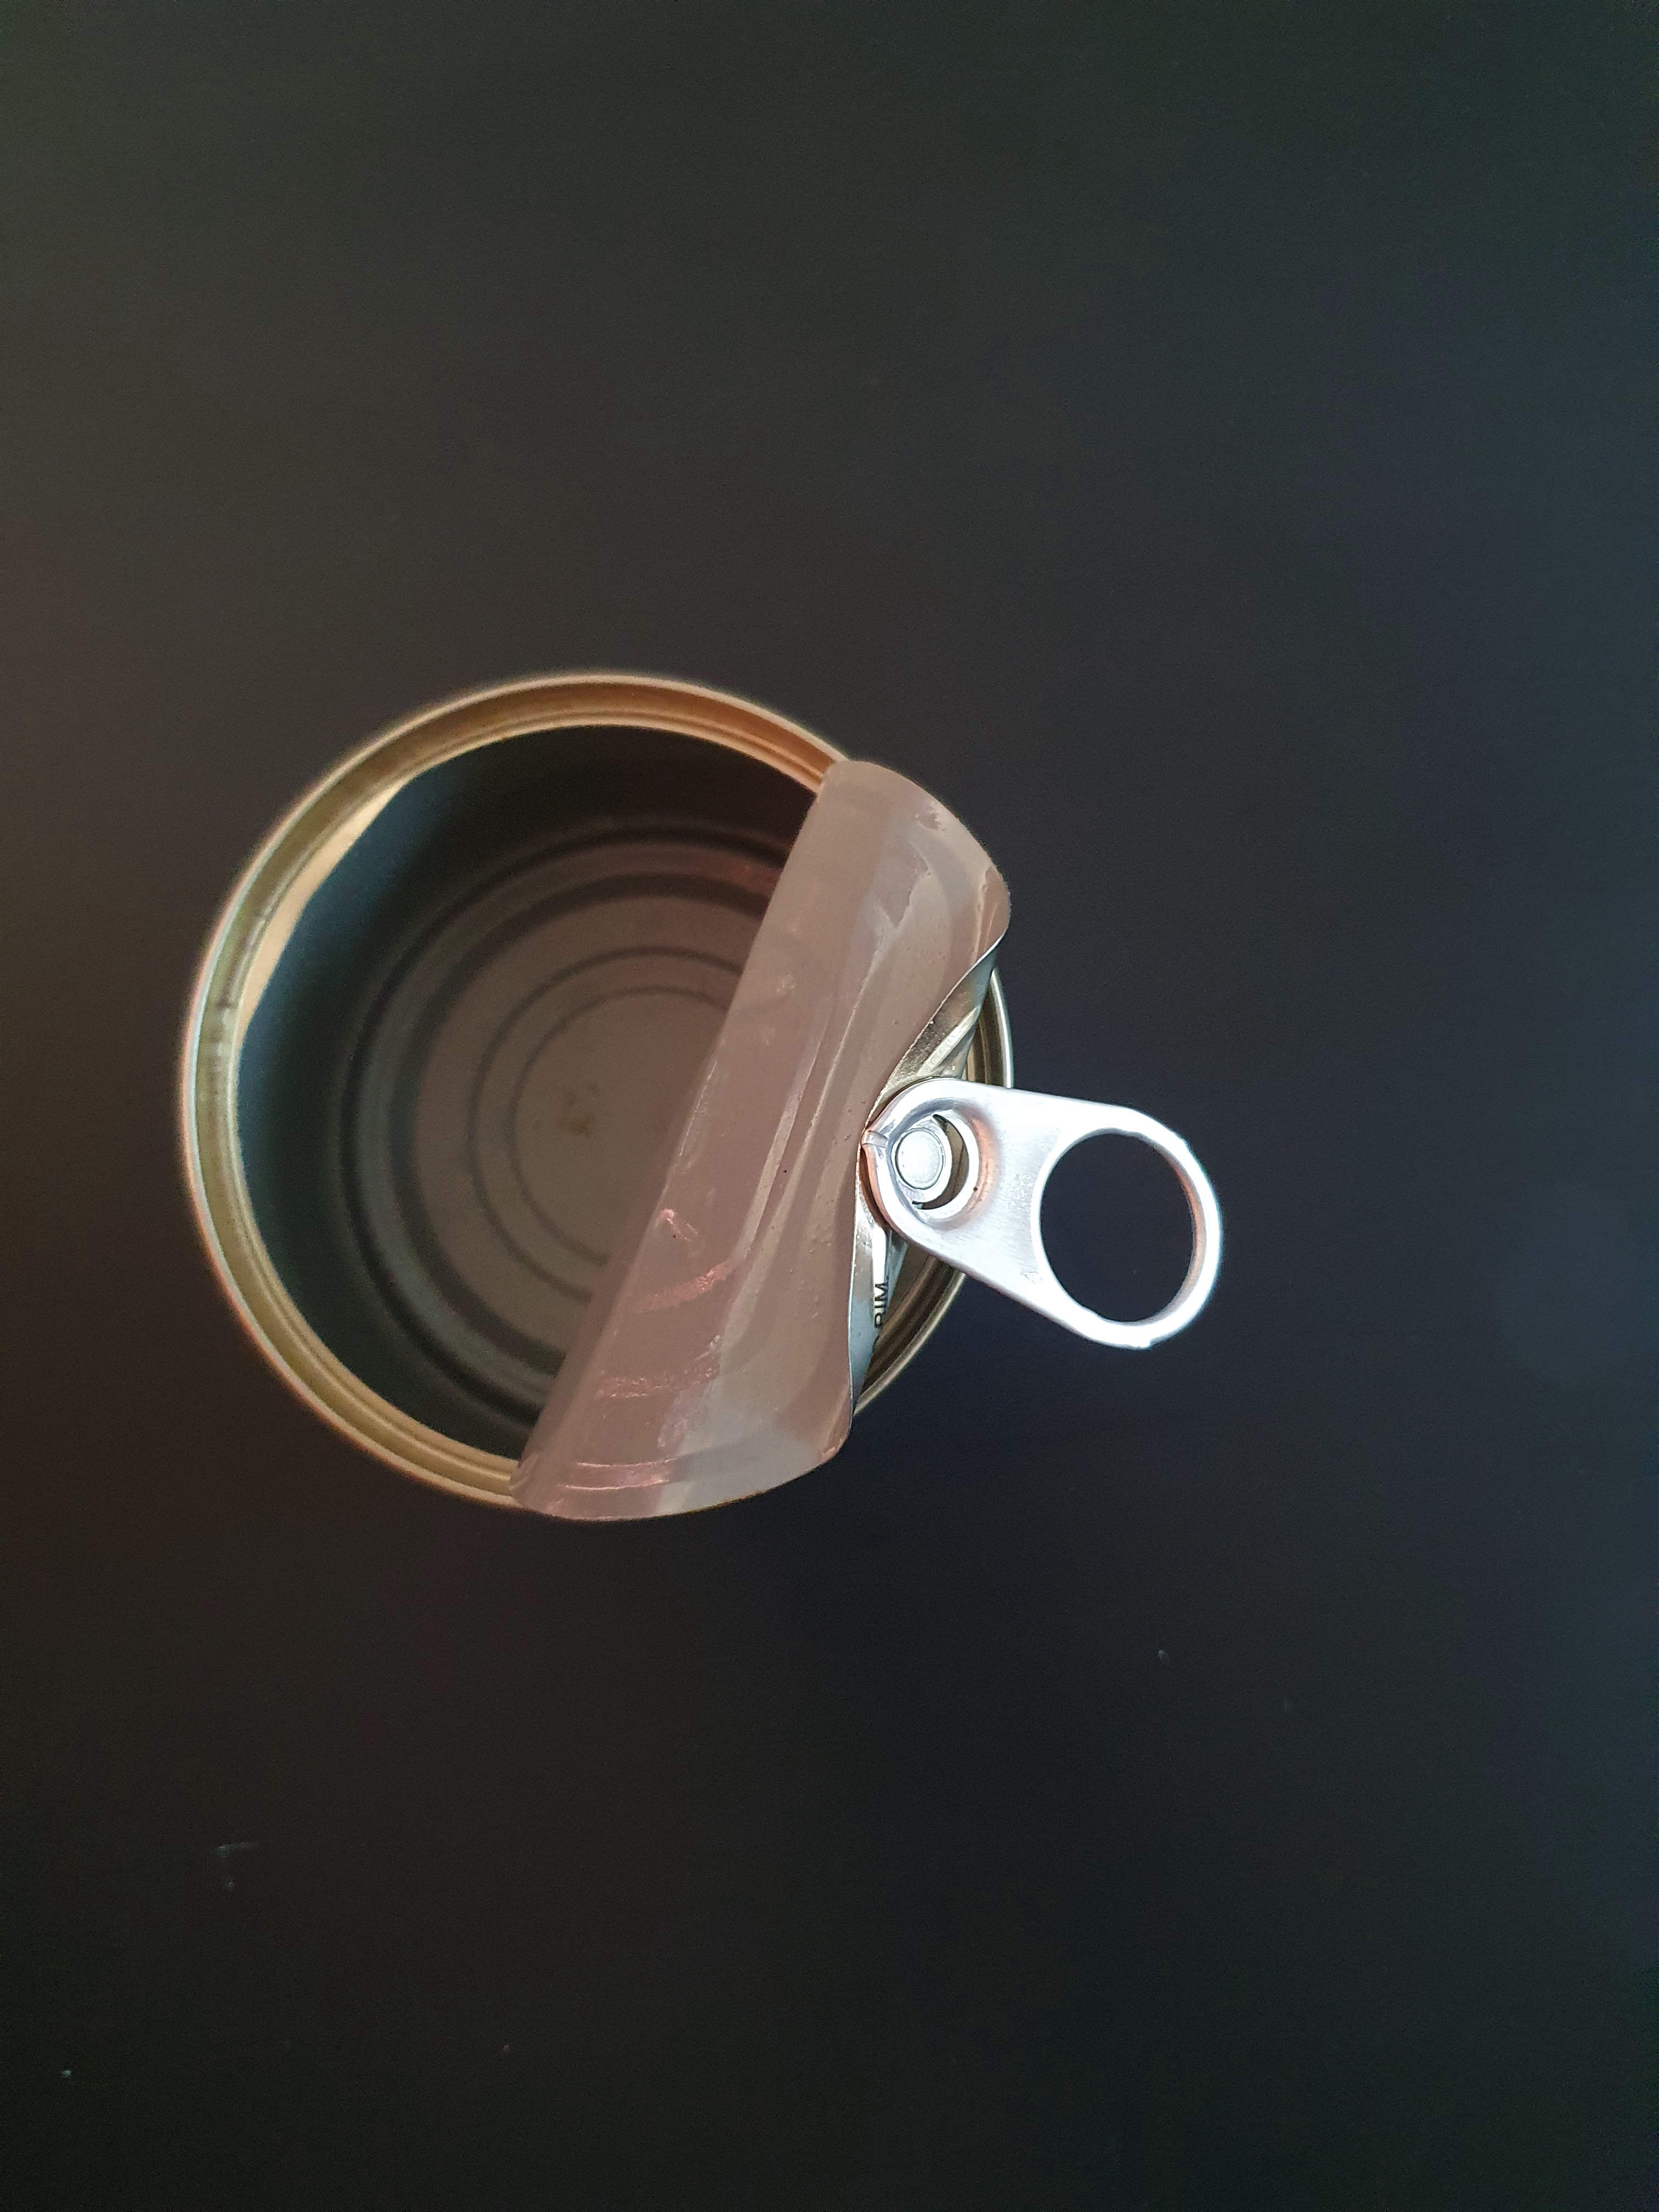metal: (113, 585, 1276, 1693)
